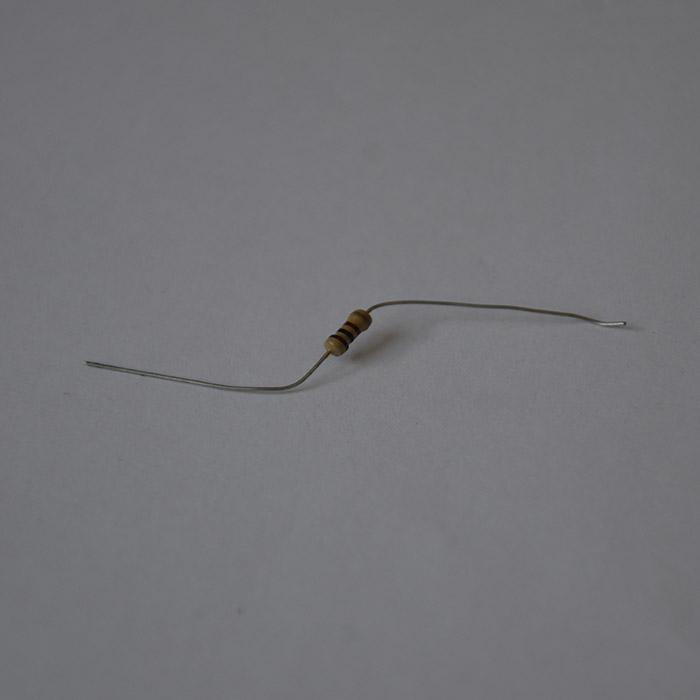resistor: (324, 308, 372, 357)
